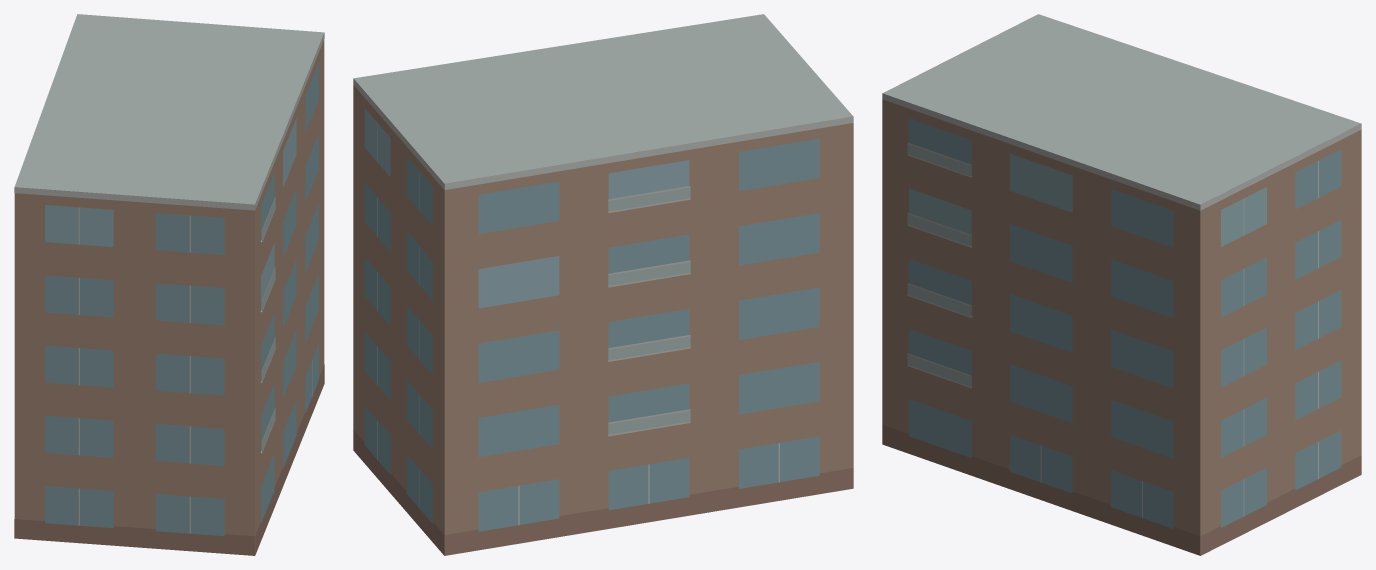
The model's file is survey-upis-32943000.glb.
The picture shows the model from 3 angles, left to right: view 1: azimuth 30°, elevation 25°; view 2: azimuth 150°, elevation 25°; view 3: azimuth 270°, elevation 25°; orthographic projection. The views are drawn at different scales.
Visible parts, largest first — view 1: survey-upis-32943000.tmp; view 2: survey-upis-32943000.tmp; view 3: survey-upis-32943000.tmp.
Boxes of the visible parts, x1=… form: survey-upis-32943000.tmp: x1=14, y1=14, x2=324, y2=555; survey-upis-32943000.tmp: x1=353, y1=14, x2=853, y2=555; survey-upis-32943000.tmp: x1=882, y1=14, x2=1361, y2=555.
Size of the model in its own units: 16.67 by 14.3 by 17.69.
